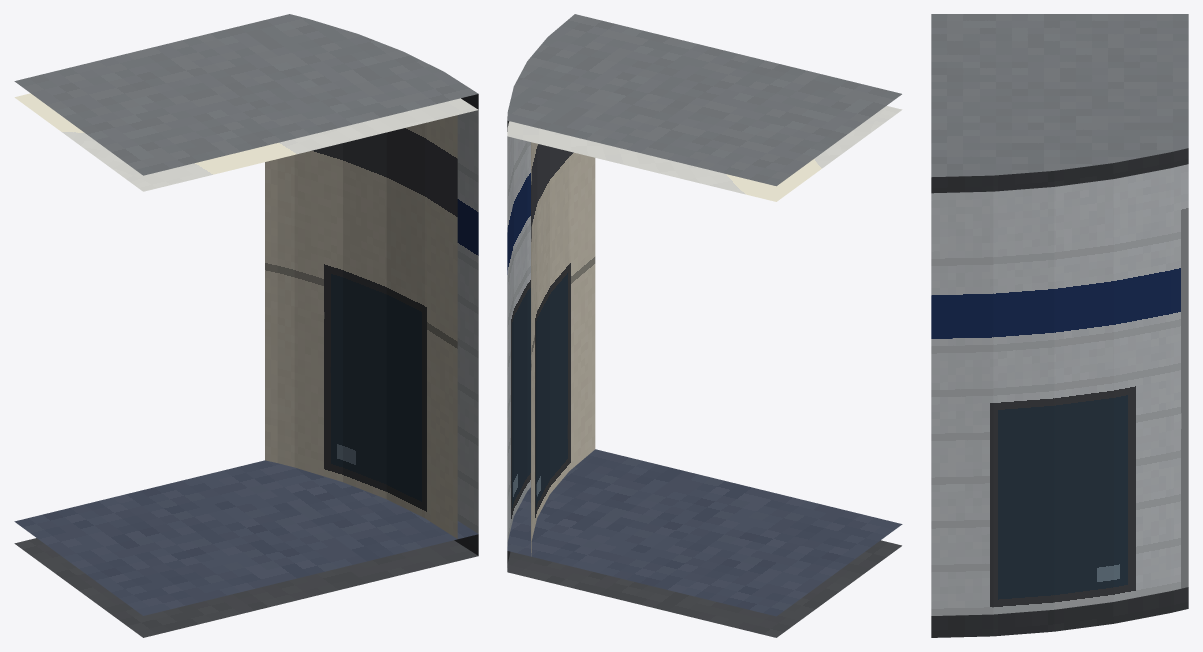
The model's file is airport_jet_bridge_uturn_c5.obj.
3 renders of one model, left to right at view 1: azimuth 30°, elevation 25°; view 2: azimuth 150°, elevation 25°; view 3: azimuth 270°, elevation 25°, orthographic. The views are drawn at different scales.
Visible parts, largest first — view 1: airport_jet_bridge_uturn_c5; view 2: airport_jet_bridge_uturn_c5; view 3: airport_jet_bridge_uturn_c5.
Boxes of the visible parts, left/top/right/bottom form: airport_jet_bridge_uturn_c5: left=14, top=14, right=478, bottom=637; airport_jet_bridge_uturn_c5: left=507, top=14, right=902, bottom=637; airport_jet_bridge_uturn_c5: left=931, top=14, right=1188, bottom=637.
Size of the model in its own units: 1.5 by 1.98 by 1.
